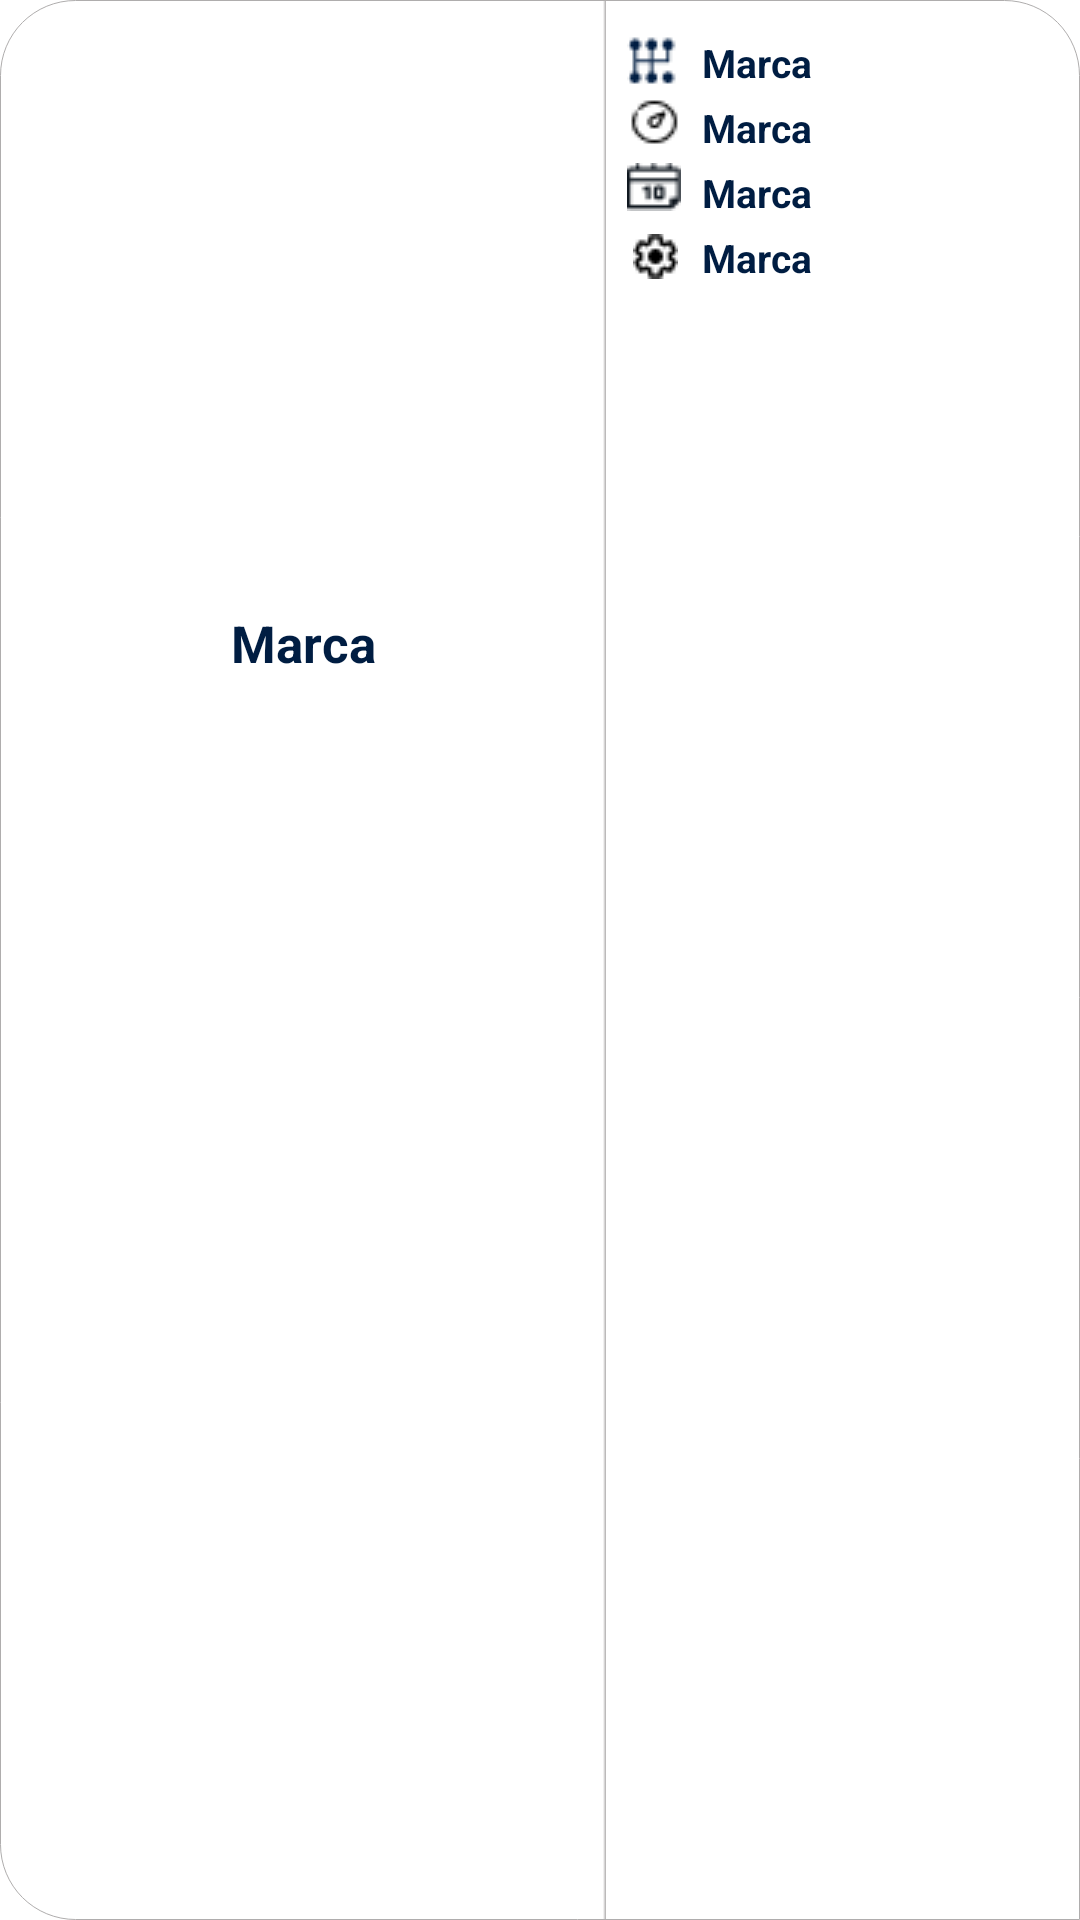

Named icons in this screenshot (1080w x 1920h) and their bounding boxes, (left=x1, top=y1, right=x2, bottom=y2):
gear: (left=629, top=37, right=676, bottom=84)
year: (left=627, top=163, right=681, bottom=211)
